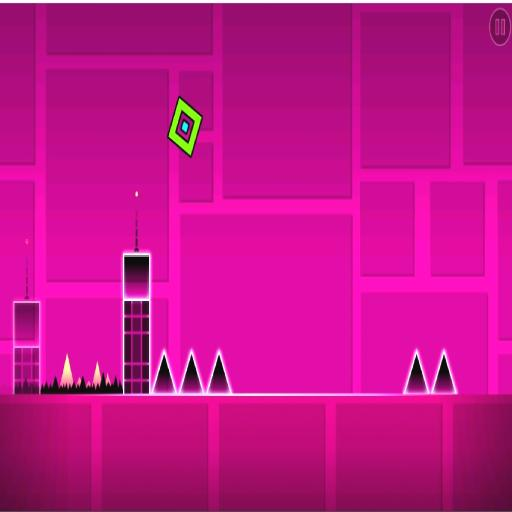block: (120, 250, 155, 397), (12, 302, 44, 394)
player: (168, 96, 202, 157)
spike: (404, 351, 428, 393), (432, 351, 456, 393), (207, 351, 231, 393), (180, 351, 203, 393), (153, 351, 175, 393), (60, 353, 73, 386), (92, 362, 101, 385), (106, 374, 110, 383), (77, 378, 80, 386), (87, 381, 90, 387)
